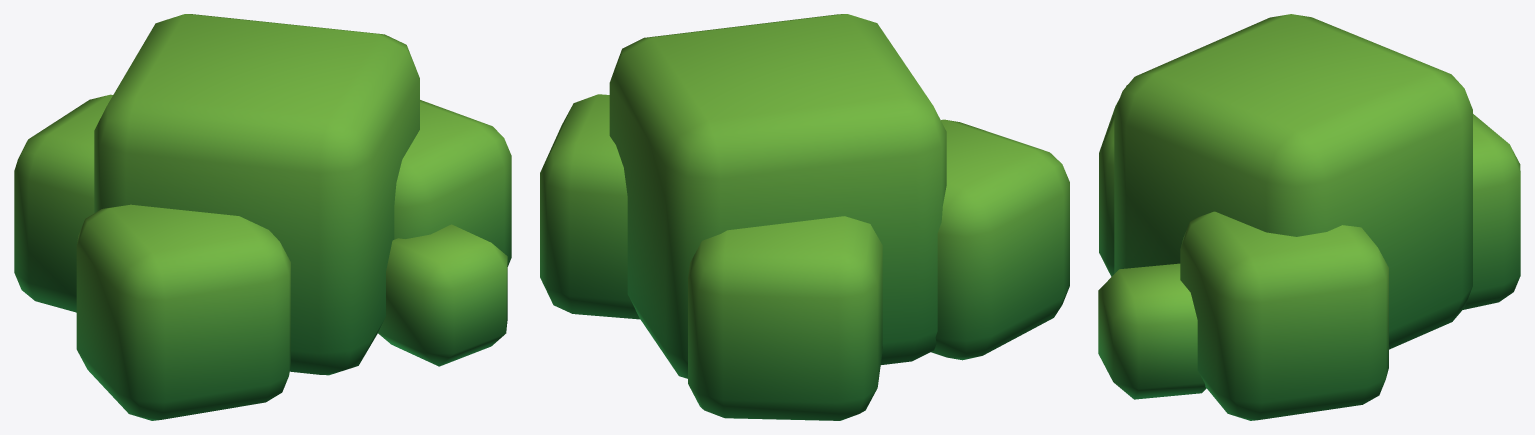
The model's file is Bush_2_E_Color1.gltf.
3 views of the same model, side by side, from view 1: azimuth 30°, elevation 25°; view 2: azimuth 150°, elevation 25°; view 3: azimuth 270°, elevation 25° (orthographic). The views are drawn at different scales.
Visible parts, largest first — view 1: Bush_2_E_Color1; view 2: Bush_2_E_Color1; view 3: Bush_2_E_Color1.
Part boxes in pixels (<box>): Bush_2_E_Color1: <box>14,14,511,420</box>; Bush_2_E_Color1: <box>540,14,1069,420</box>; Bush_2_E_Color1: <box>1098,14,1520,420</box>.
Bounding box in the file's own units: 2.35 × 1.33 × 2.01.
Materials: 1 (1 with a texture image).
